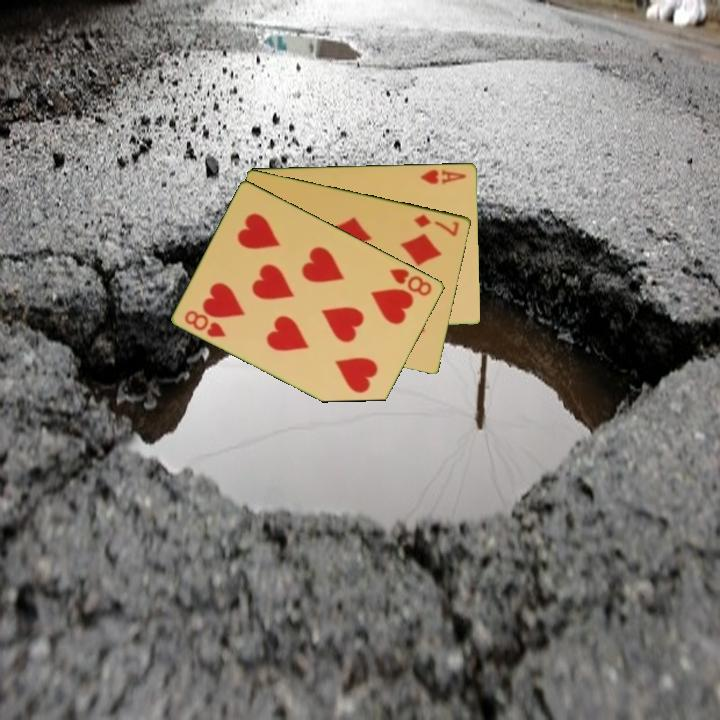7d: (411, 210, 462, 239)
8h: (386, 265, 435, 299), (181, 306, 229, 340)
Ah: (417, 166, 469, 187)
